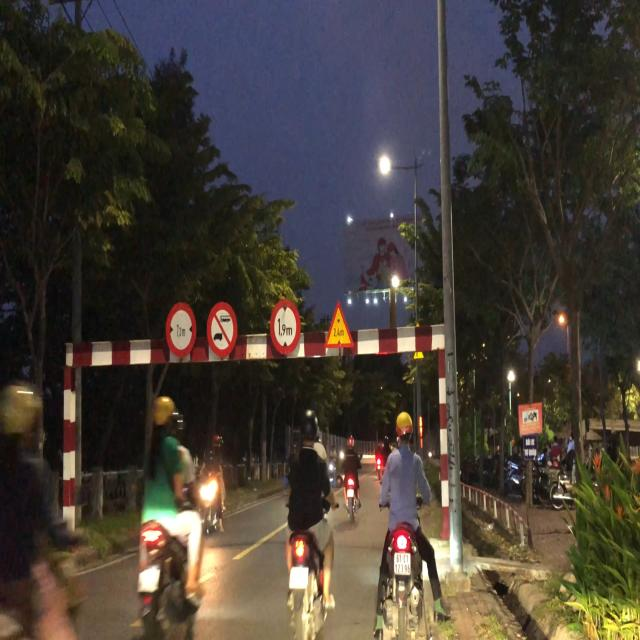Bien bao cam xe oto khach va xe oto tai: (206, 300, 240, 363)
Bien bao chieu cao tinh khong thuc te: (323, 296, 357, 354)
Bien bao han che chieu cao: (270, 298, 300, 358)
